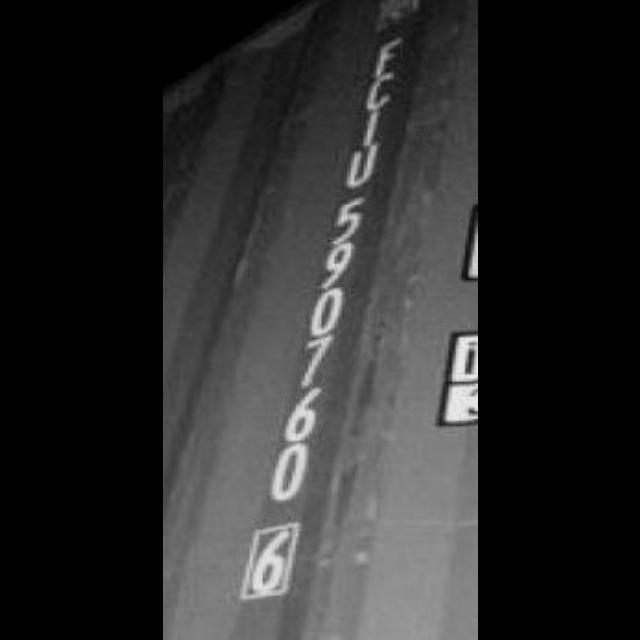0: (270, 445, 318, 505), (308, 288, 346, 334)
5: (330, 194, 370, 242)
6: (248, 528, 298, 598), (280, 389, 332, 445)
7: (298, 333, 340, 389)
9: (317, 241, 359, 289)
c: (366, 70, 402, 112)
f: (366, 34, 408, 74)
i: (351, 106, 395, 150)
u: (346, 148, 382, 188)
